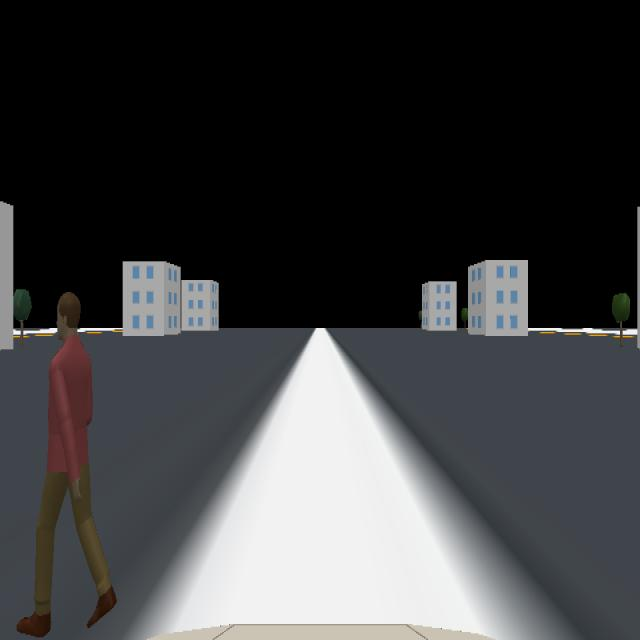human: (16, 291, 117, 636)
